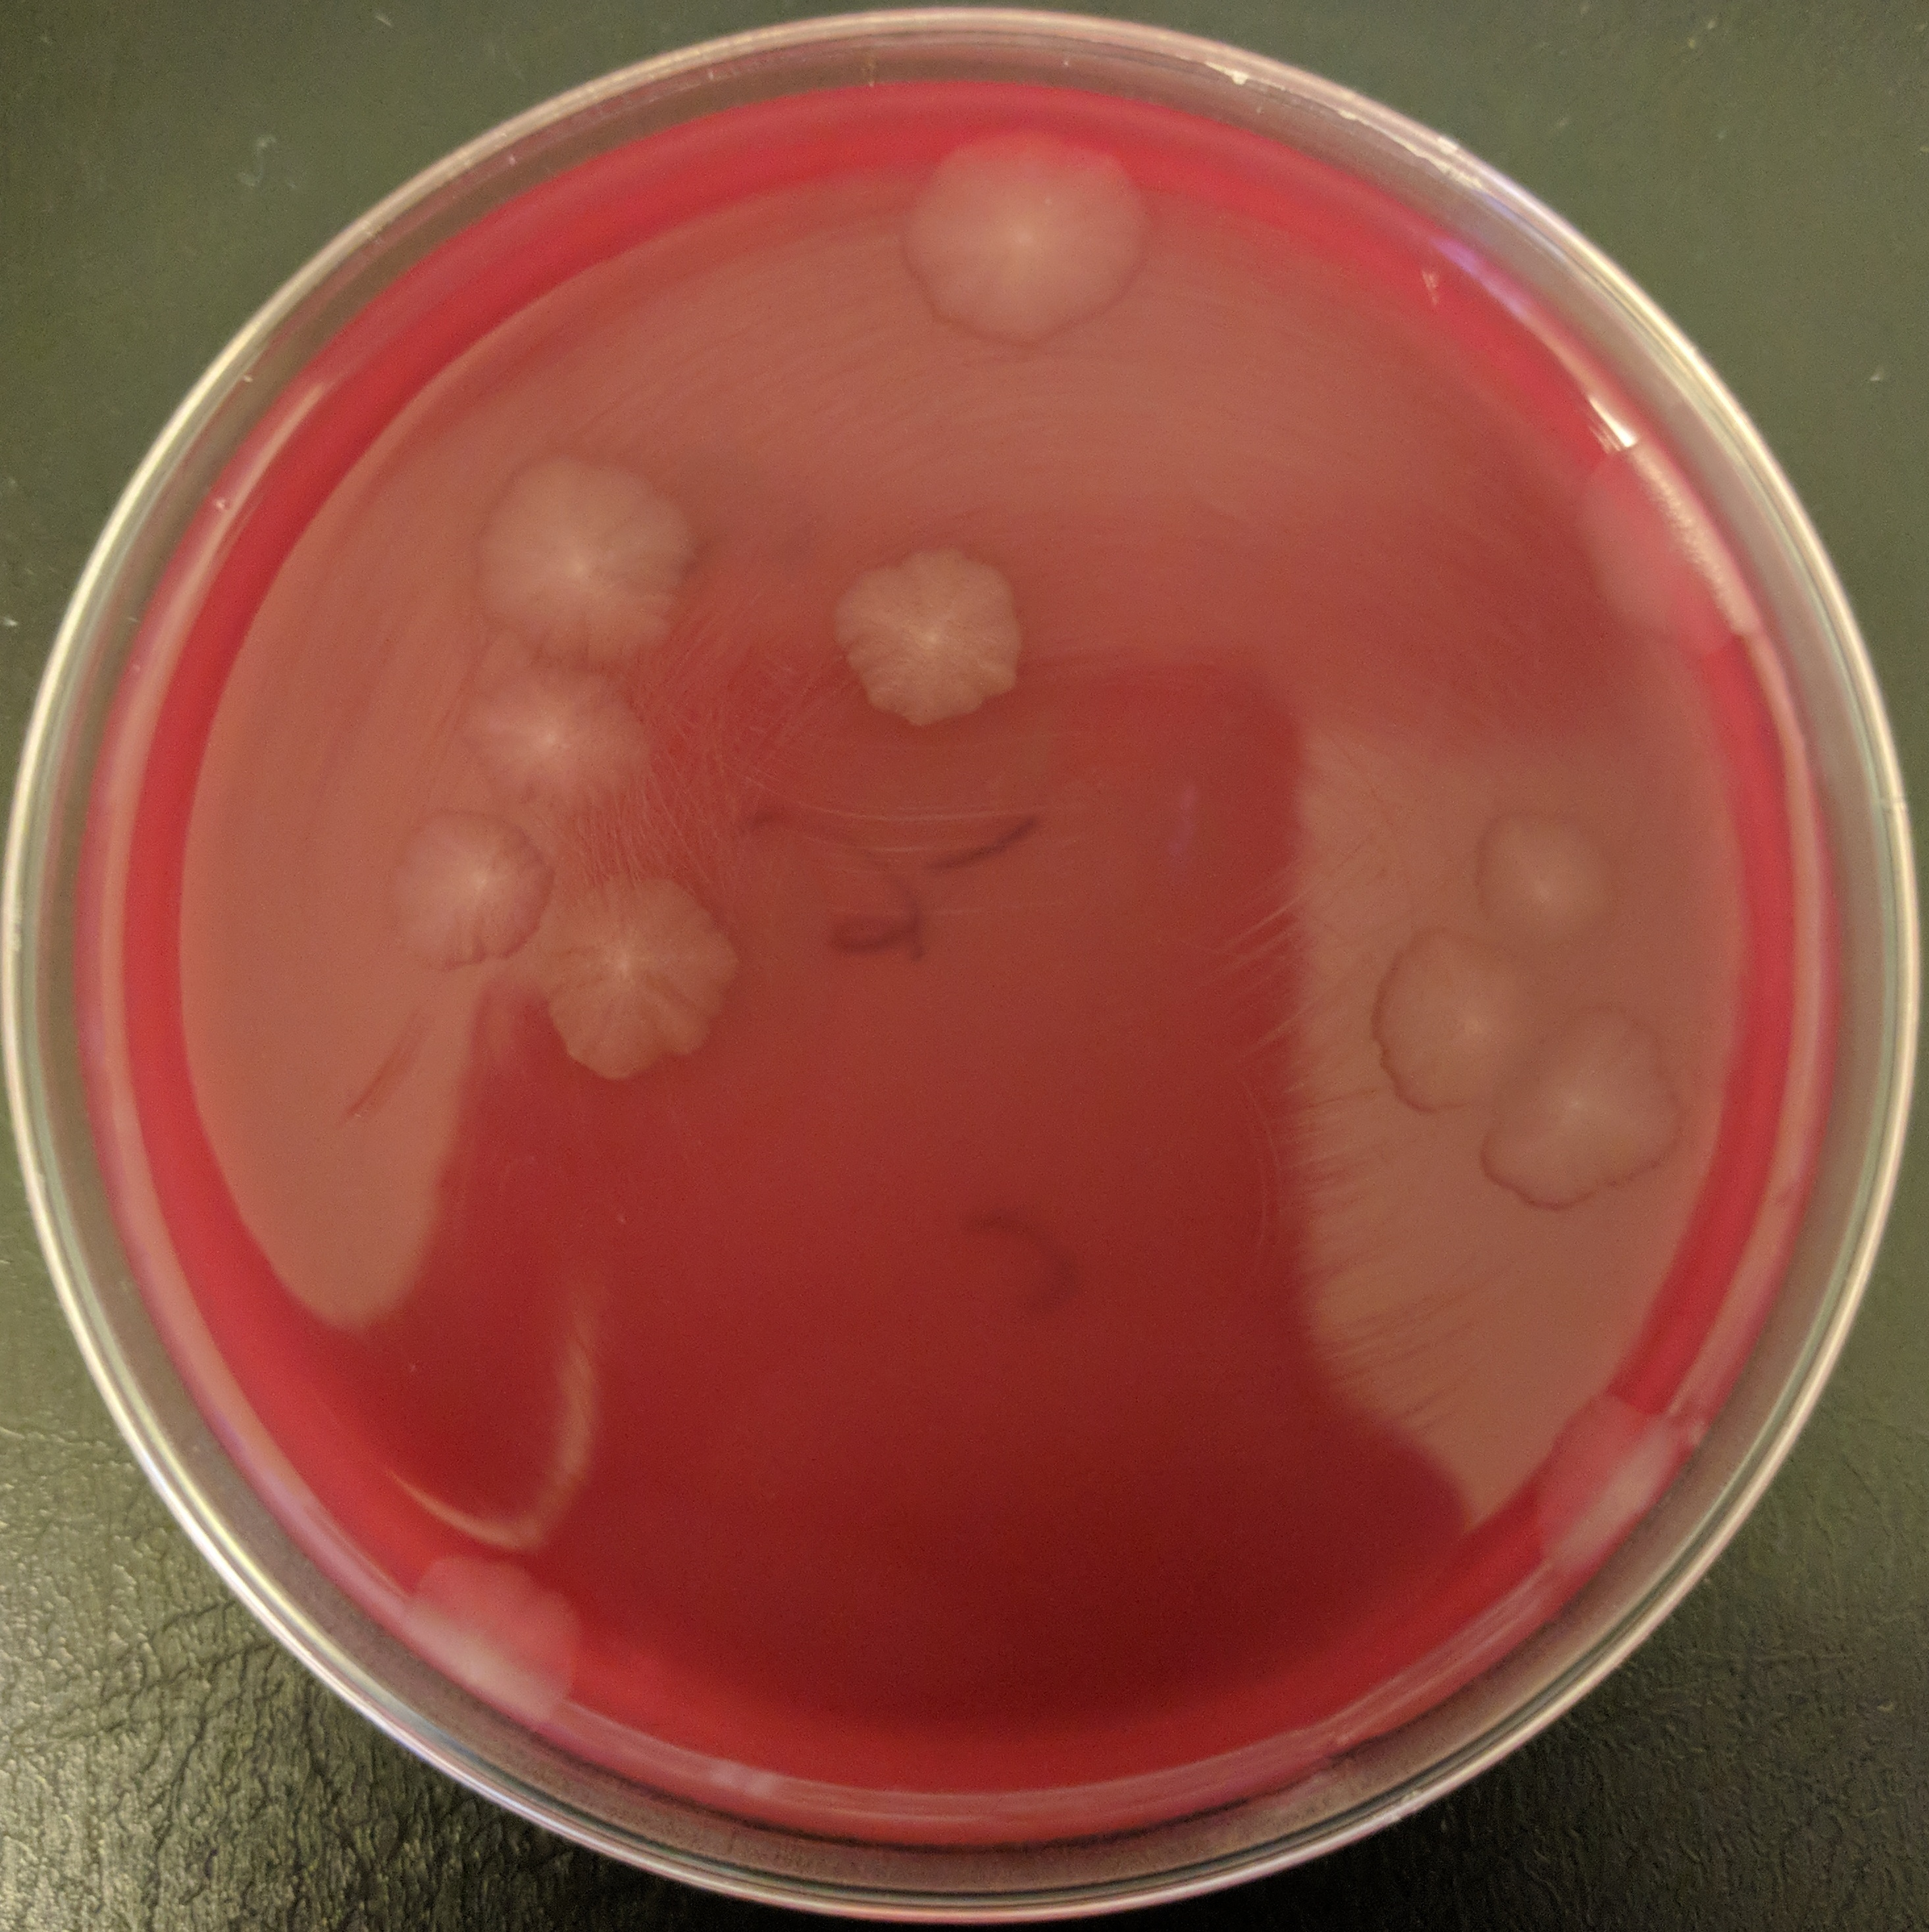sp08: (429, 434, 733, 691), (798, 509, 1063, 796), (1461, 985, 1751, 1245), (1553, 419, 1788, 698), (885, 131, 1157, 362), (401, 602, 671, 834), (339, 784, 627, 987), (1449, 1392, 1712, 1612), (519, 878, 751, 1113), (1420, 812, 1683, 991), (380, 1536, 592, 1734), (1312, 945, 1553, 1113)
